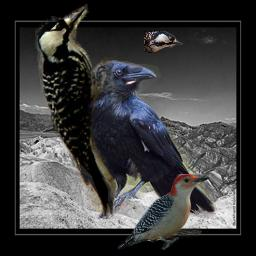Crow: (72, 60, 219, 219)
Woodpecker: (27, 1, 134, 234), (118, 174, 212, 250), (144, 29, 183, 53)
